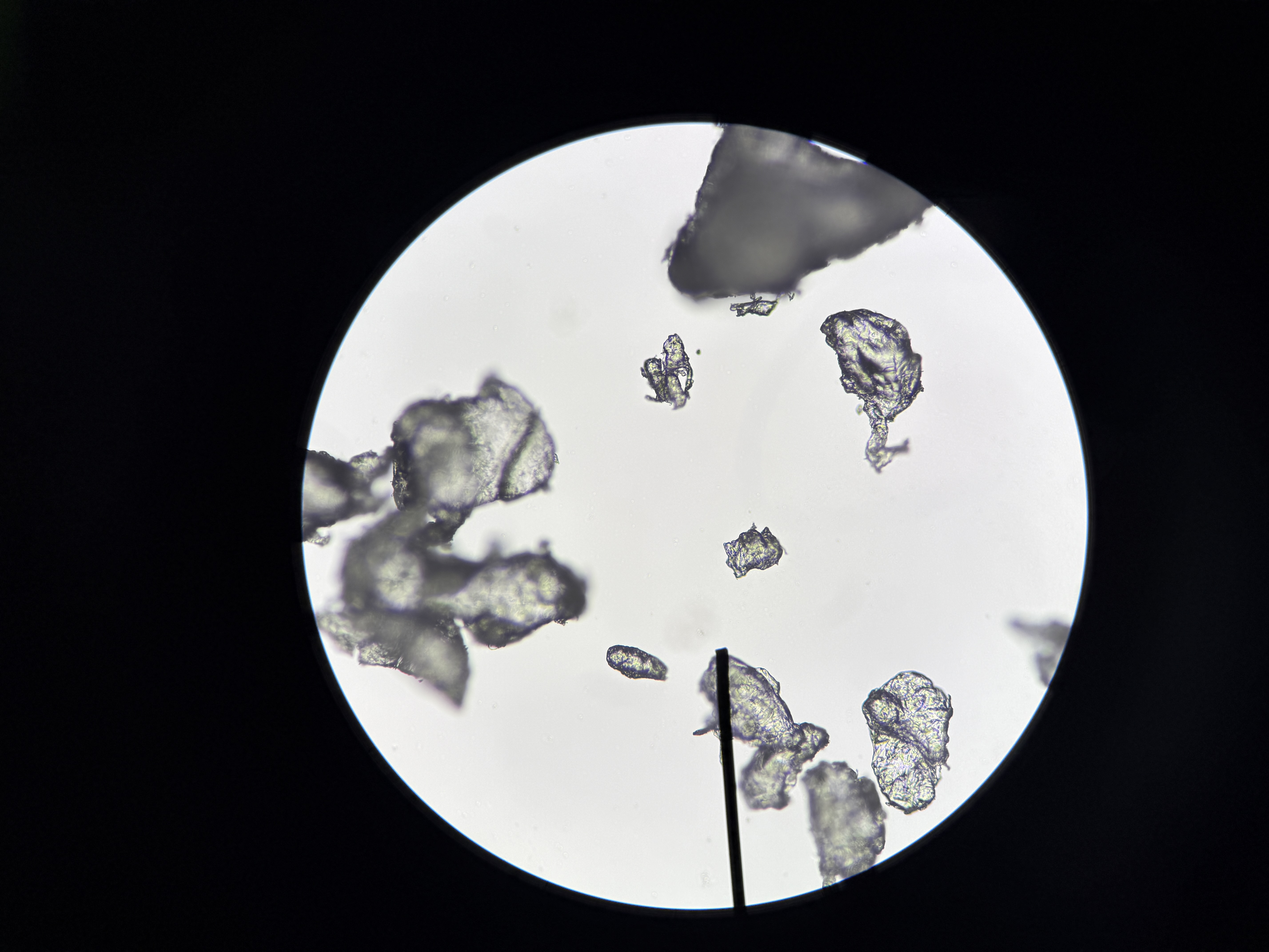microplastic: (314, 377, 587, 708), (660, 123, 936, 302), (819, 308, 924, 474), (862, 671, 954, 815), (693, 655, 807, 752), (802, 761, 887, 889), (297, 446, 393, 546), (738, 722, 830, 810), (640, 334, 694, 410), (1013, 622, 1071, 686), (723, 523, 783, 580), (606, 644, 668, 681), (730, 296, 778, 317), (696, 349, 700, 354)
